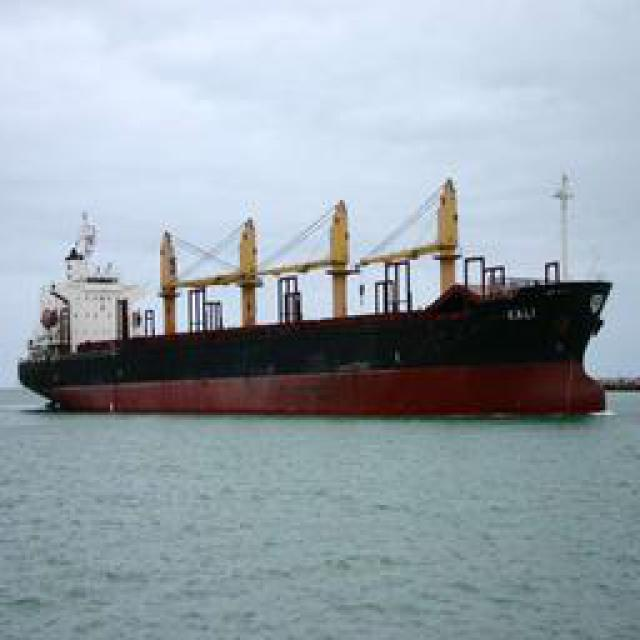Ship: (20, 175, 623, 410)
